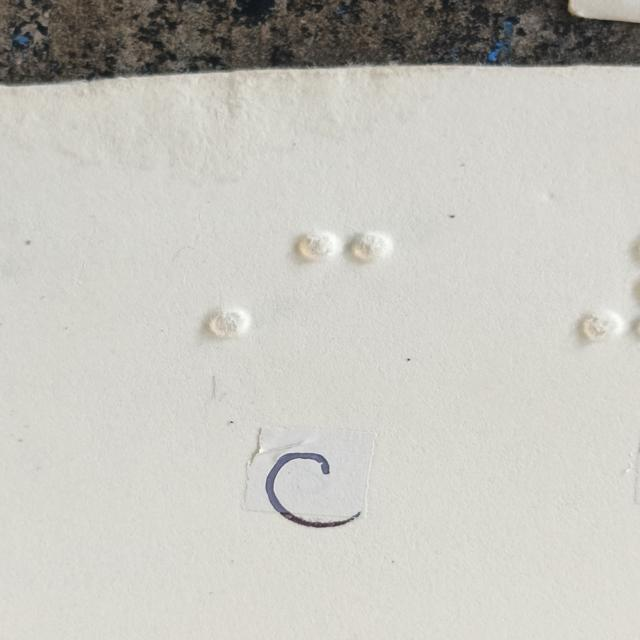C: (298, 232, 389, 340)
capital: (165, 233, 256, 341)
